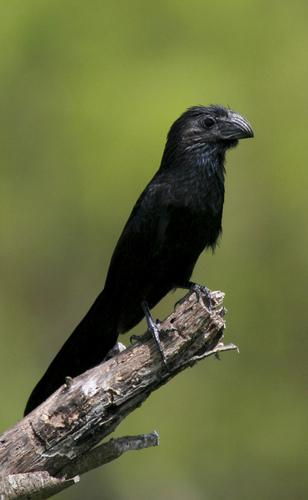004.Groove_billed_Ani: (25, 99, 254, 424)
